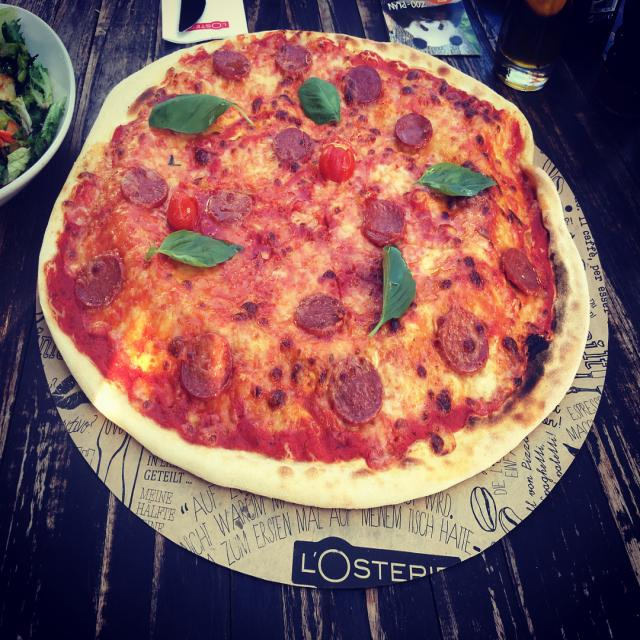pepperoni: (172, 330, 235, 402), (327, 355, 383, 426), (436, 306, 491, 376), (73, 256, 124, 311), (295, 289, 347, 342), (362, 191, 404, 248), (119, 165, 171, 209), (270, 127, 318, 174), (391, 112, 436, 158), (206, 182, 254, 225), (500, 248, 542, 297), (343, 66, 386, 113), (277, 43, 313, 86), (211, 49, 252, 85)
pizza: (36, 29, 588, 513)
